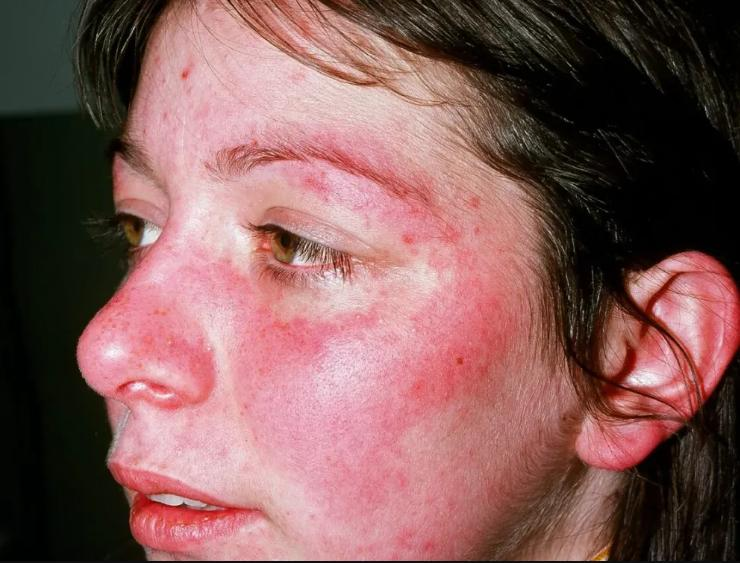Skin-Redness: (400, 287, 519, 421)
